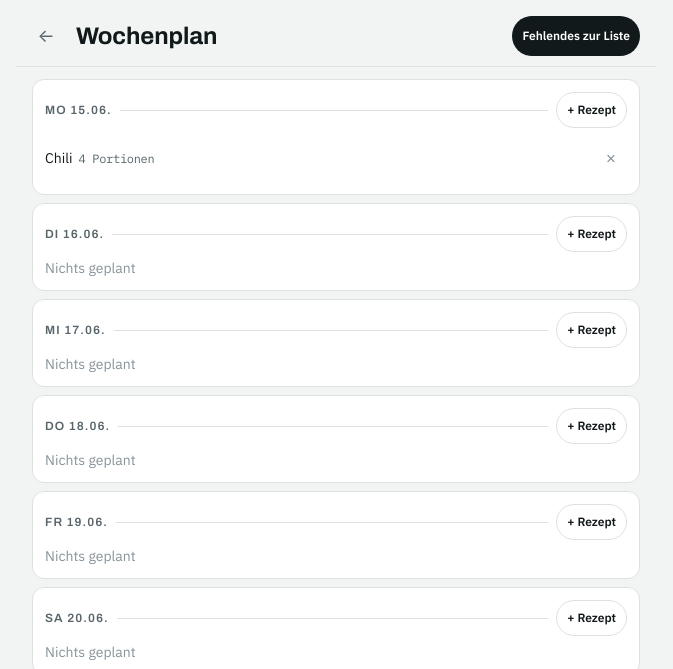
Test: MealPlan › removing an entry › removes it from the plan
Click the button named "Aus dem Plan entfernen": x=611, y=158 [595,140,627,176]
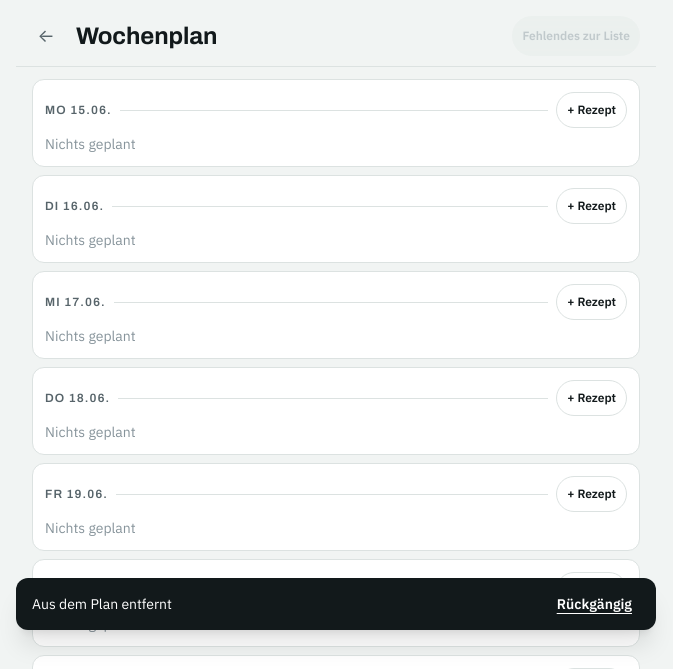
Expected: the text "Nichts geplant" is shown 7 times
